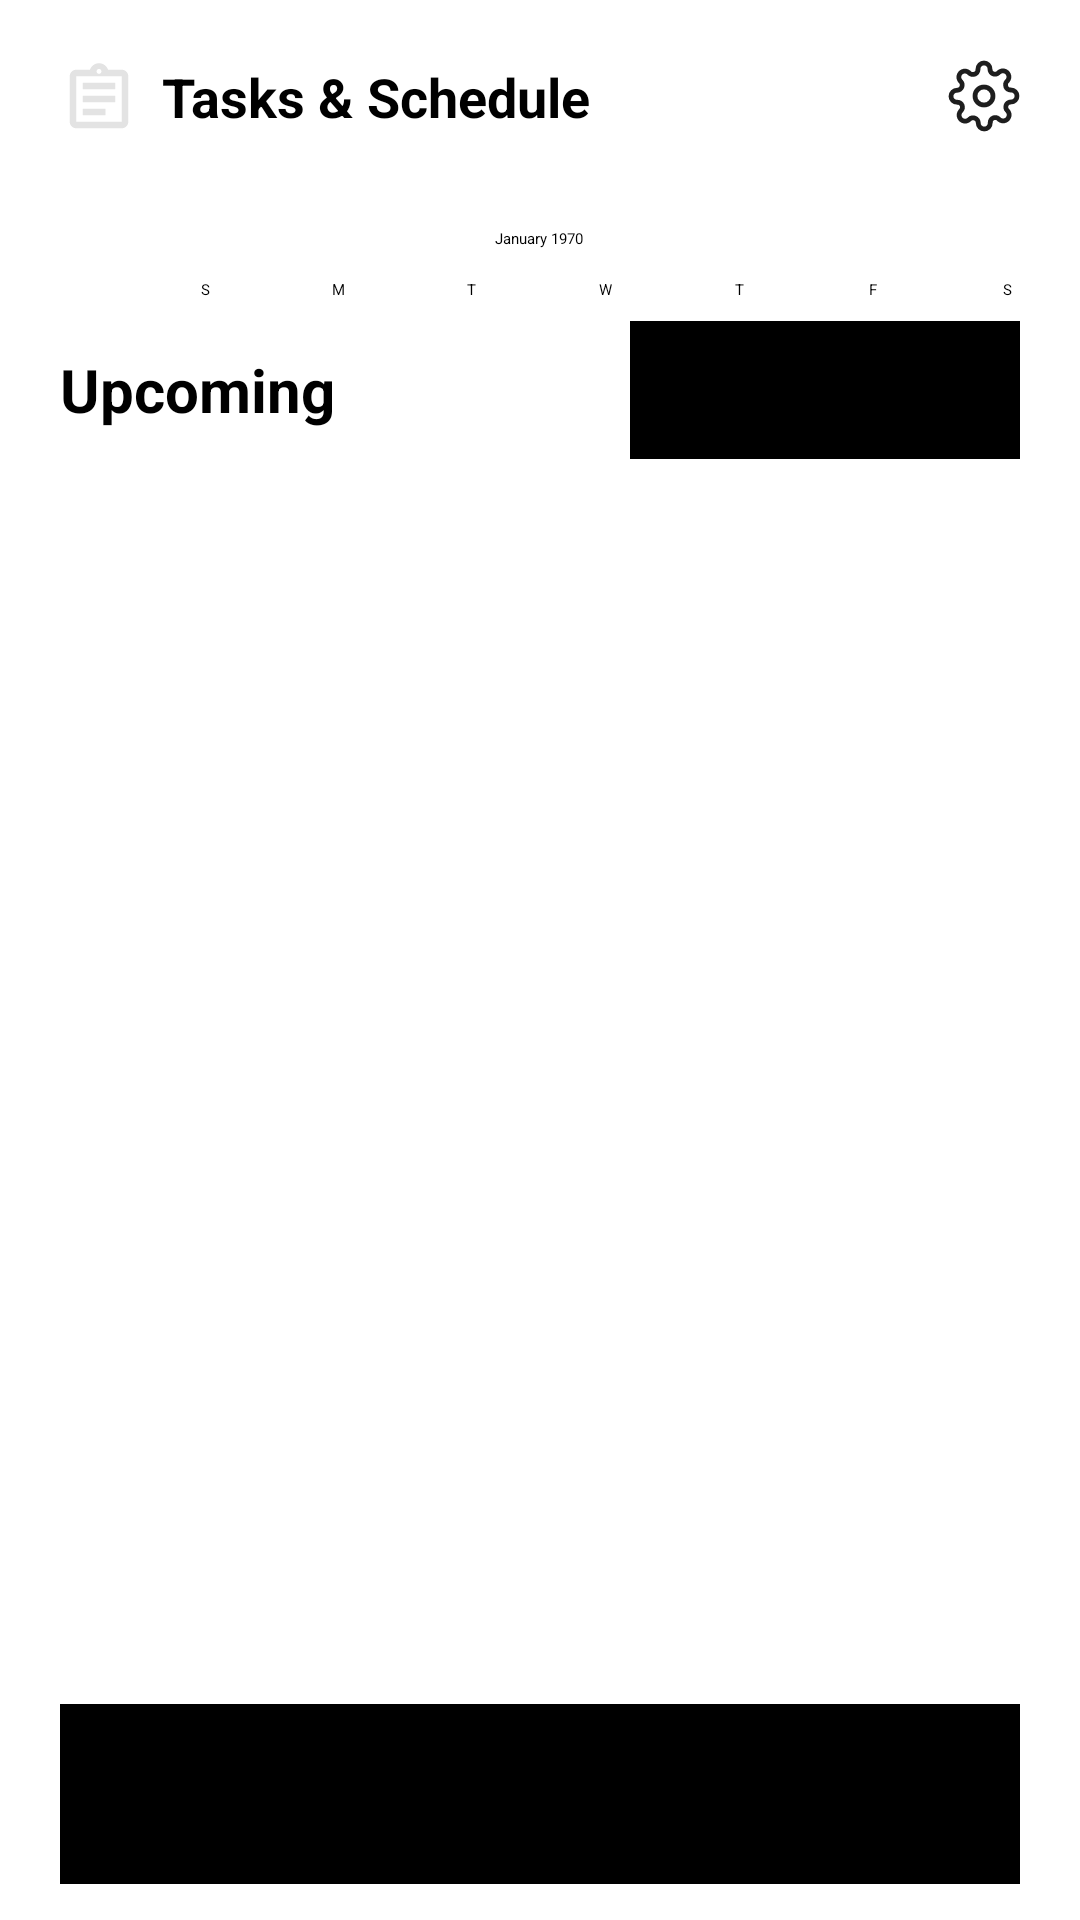

Icon bounding boxes for this 1080w x 1920h phone screenshot, format (x1, y1, x2, y2):
setting: (948, 60, 1020, 132)
